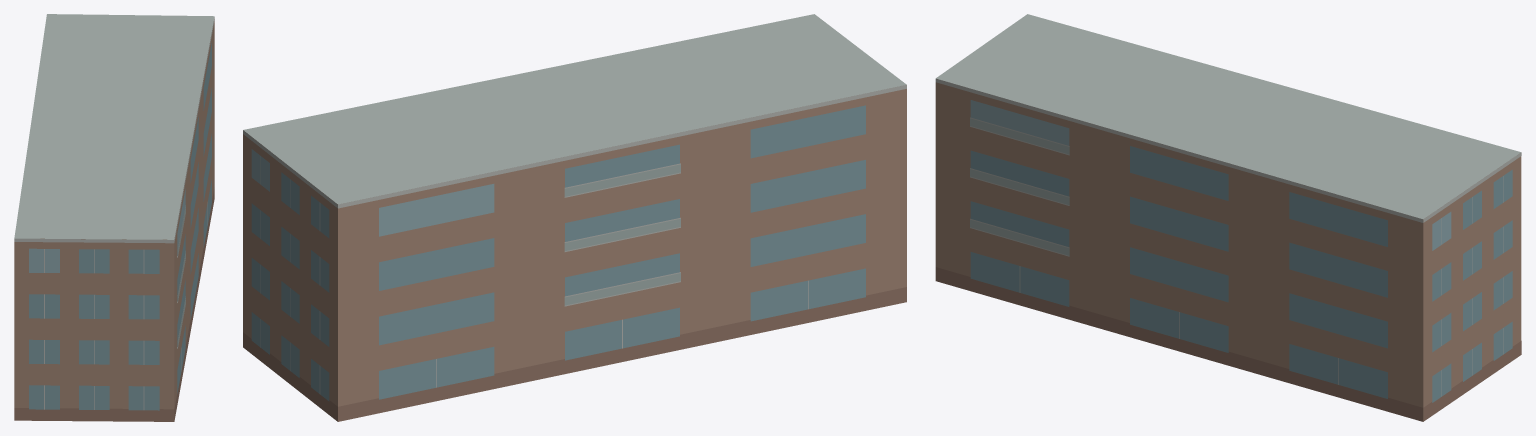
The model's file is survey-upis-32854938.glb.
3 renders of one model, left to right at view 1: azimuth 30°, elevation 25°; view 2: azimuth 150°, elevation 25°; view 3: azimuth 270°, elevation 25°, orthographic. The views are drawn at different scales.
Visible parts, largest first — view 1: survey-upis-32854938.tmp; view 2: survey-upis-32854938.tmp; view 3: survey-upis-32854938.tmp.
Part boxes in pixels (<box>): survey-upis-32854938.tmp: <box>14,14,214,421</box>; survey-upis-32854938.tmp: <box>243,14,906,421</box>; survey-upis-32854938.tmp: <box>935,14,1521,421</box>.
Bounding box in the file's own units: 28.7 × 13.2 × 34.61.
